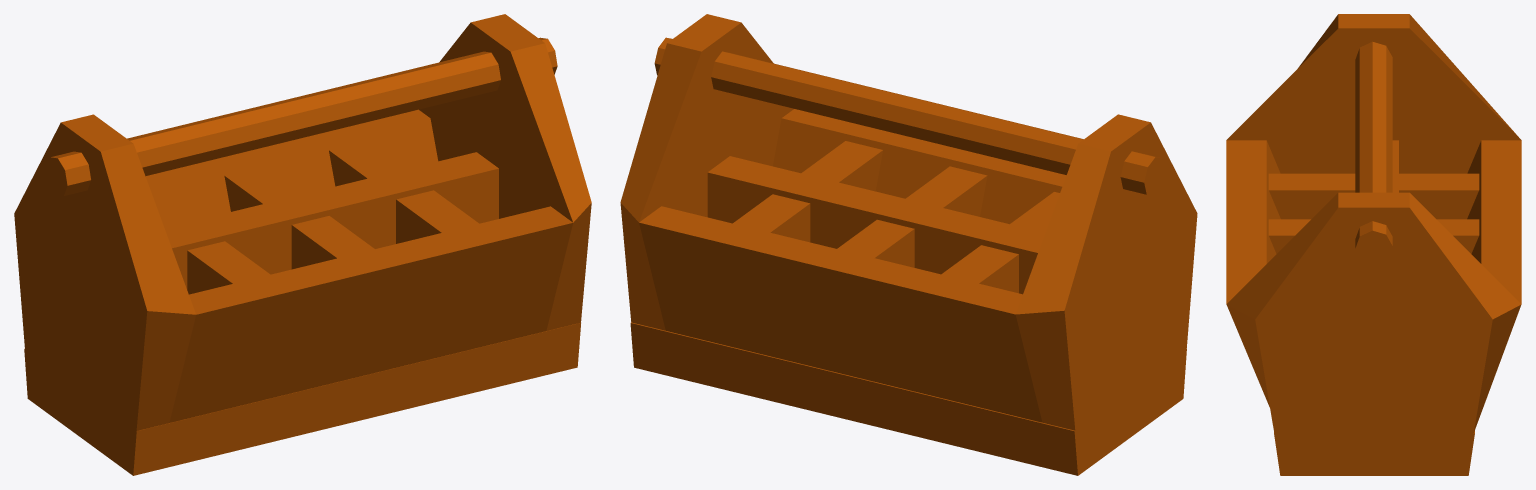
File: Ampule_Box_1.fbx
The picture shows the model from 3 angles, left to right: view 1: azimuth 30°, elevation 25°; view 2: azimuth 150°, elevation 25°; view 3: azimuth 270°, elevation 25°; orthographic projection. The views are drawn at different scales.
Visible parts, largest first — view 1: Cube.011; view 2: Cube.011; view 3: Cube.011.
Part boxes in pixels (x1=…): Cube.011: x1=14, y1=14, x2=591, y2=475; Cube.011: x1=620, y1=14, x2=1197, y2=475; Cube.011: x1=1226, y1=14, x2=1521, y2=475.
Bounding box in the file's own units: 70.42 × 41.26 × 41.12.
